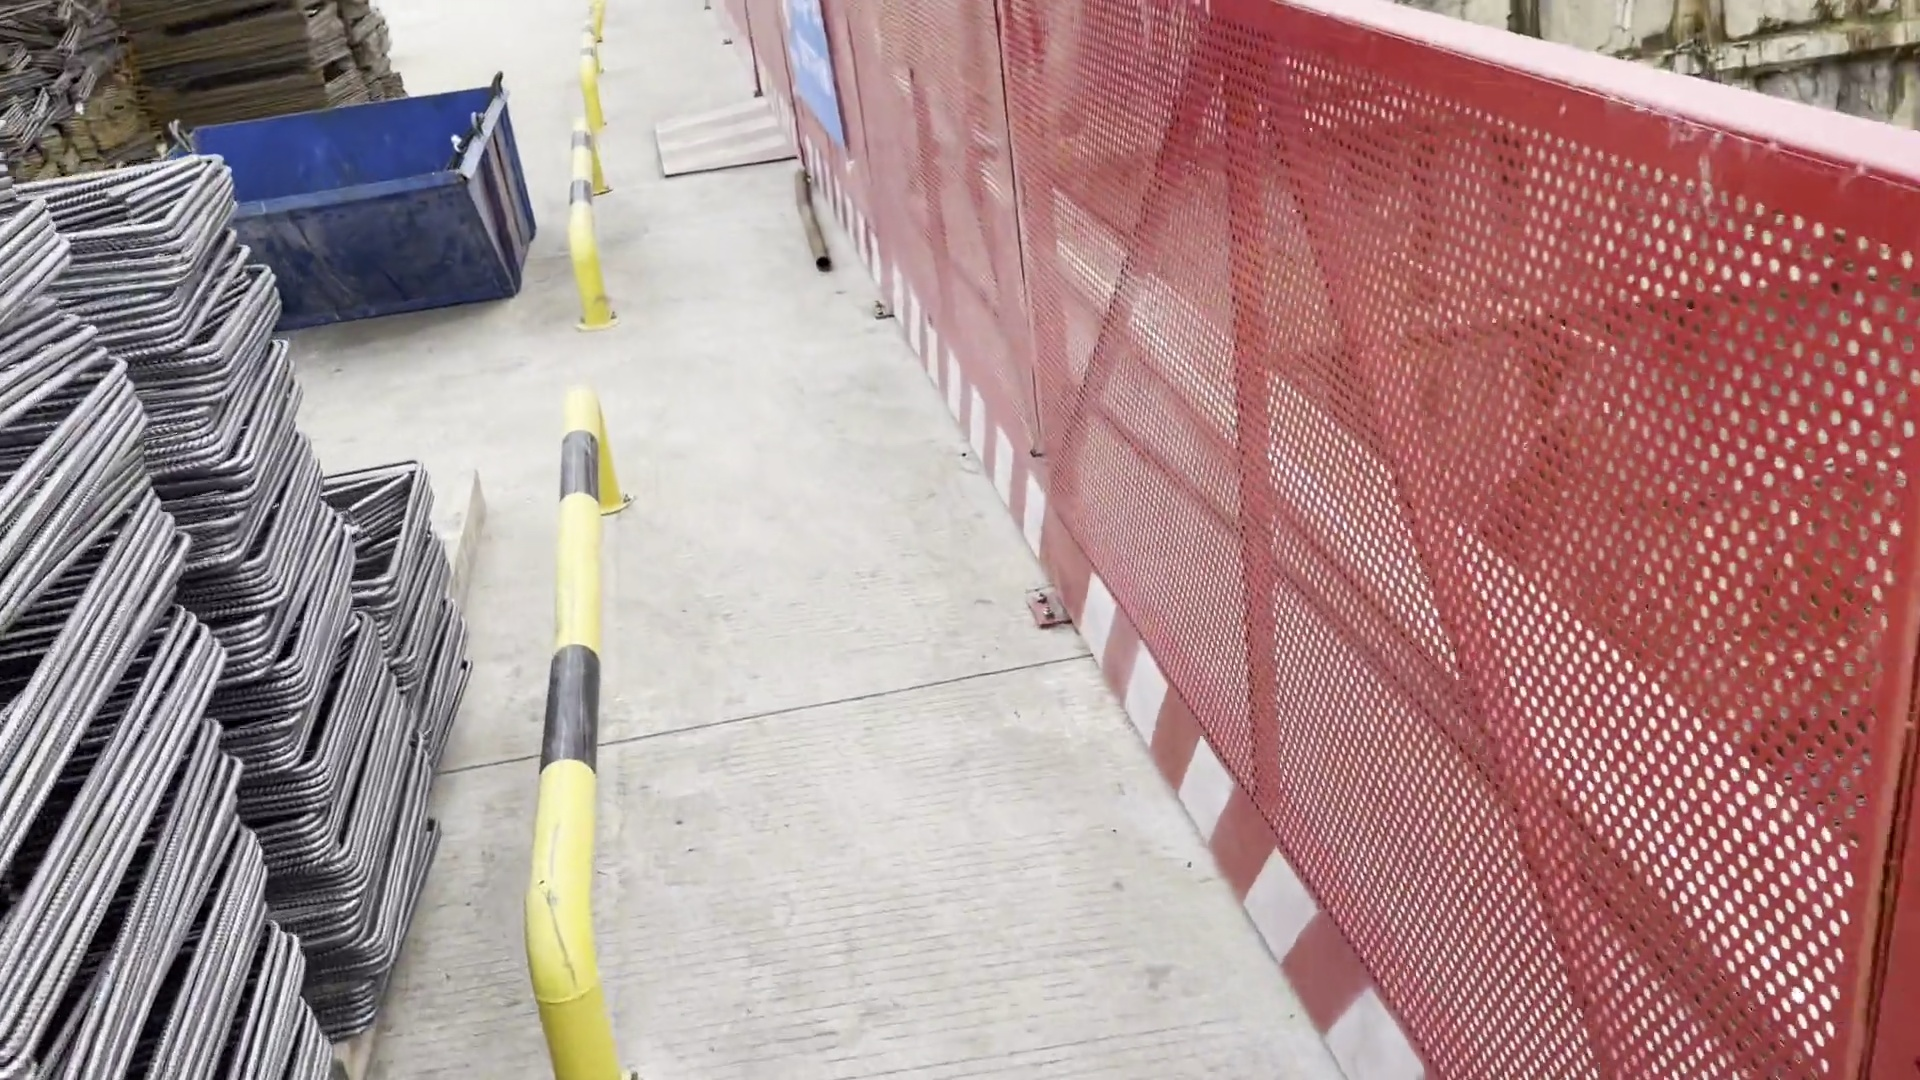fence: (711, 1, 1920, 1080)
hopper: (175, 76, 545, 343)
slogan: (767, 1, 868, 177)
